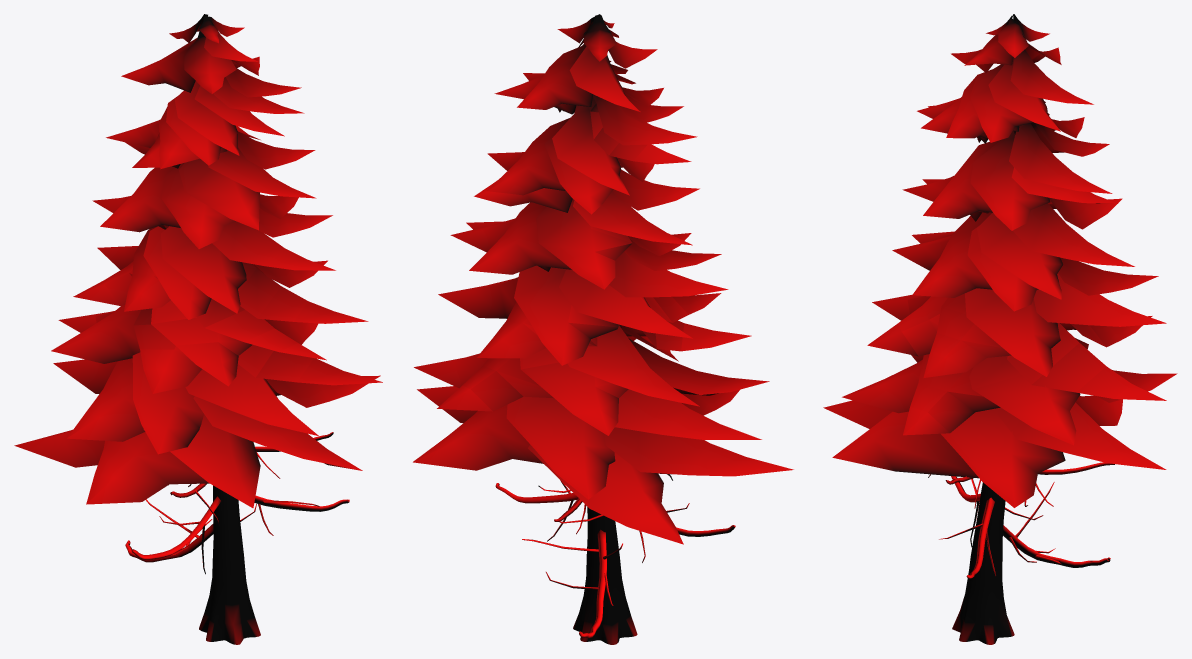
The model's file is pine4.glb.
3 views of the same model, side by side, from view 1: azimuth 30°, elevation 25°; view 2: azimuth 150°, elevation 25°; view 3: azimuth 270°, elevation 25° (orthographic). The views are drawn at different scales.
Visible parts, largest first — view 1: Pine_4; view 2: Pine_4; view 3: Pine_4.
Part boxes in pixels (box(x1,y1,x2,y2)): Pine_4: box(14, 14, 382, 644); Pine_4: box(413, 14, 793, 644); Pine_4: box(823, 14, 1177, 644).
Bounding box in the file's own units: 5.8 × 10.24 × 5.37.
